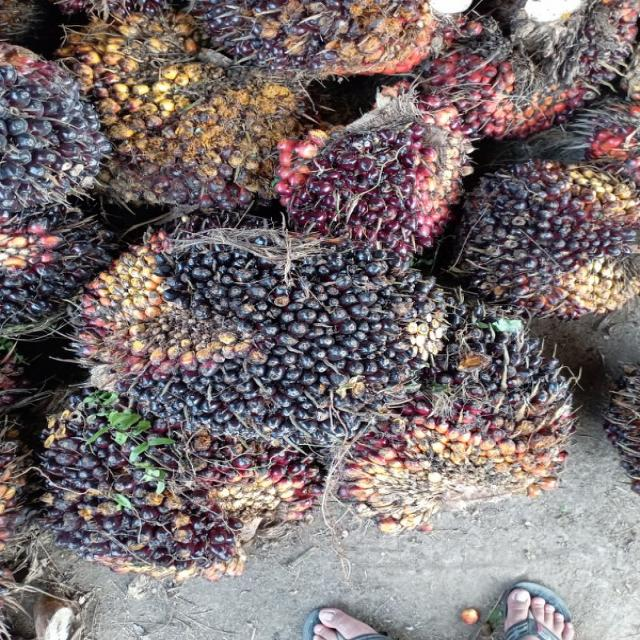fraksi 00: (70, 227, 434, 446), (27, 397, 330, 575), (336, 304, 574, 522), (451, 163, 640, 319)
fraksi 1: (282, 85, 468, 265)
